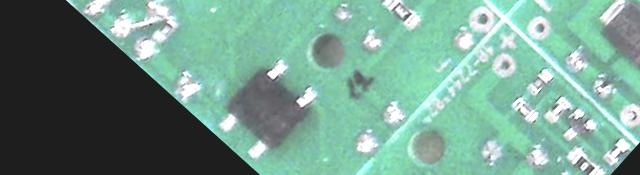chip-resistor: (566, 146, 603, 175), (383, 0, 418, 27), (542, 94, 570, 124), (510, 95, 539, 123), (602, 137, 630, 166), (525, 66, 552, 94), (152, 16, 177, 42)
diode: (593, 0, 640, 75)
ic: (211, 51, 325, 166)
transistor: (556, 105, 596, 147)
